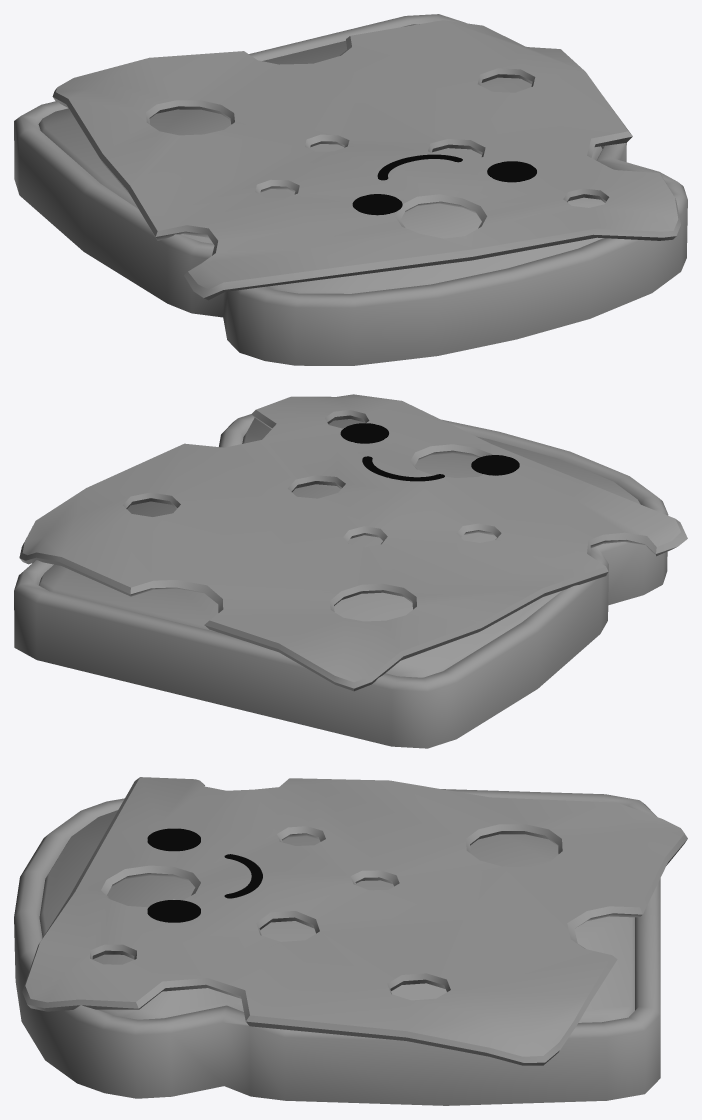
File: sandwich_small_smile.fbx
3 views of the same model, one above another, from view 1: azimuth 30°, elevation 25°; view 2: azimuth 150°, elevation 25°; view 3: azimuth 270°, elevation 25° (orthographic). The views are drawn at different scales.
Parts seen in each view (by area): view 1: sandwich_small_smile; view 2: sandwich_small_smile; view 3: sandwich_small_smile.
Part boxes in pixels (x1,y1,x2,y2): sandwich_small_smile: [14, 14, 687, 365]; sandwich_small_smile: [14, 394, 687, 748]; sandwich_small_smile: [14, 777, 687, 1105].
Bounding box in the file's own units: 85.43 × 88.73 × 15.42.
Materials: 2 (1 with a texture image).
